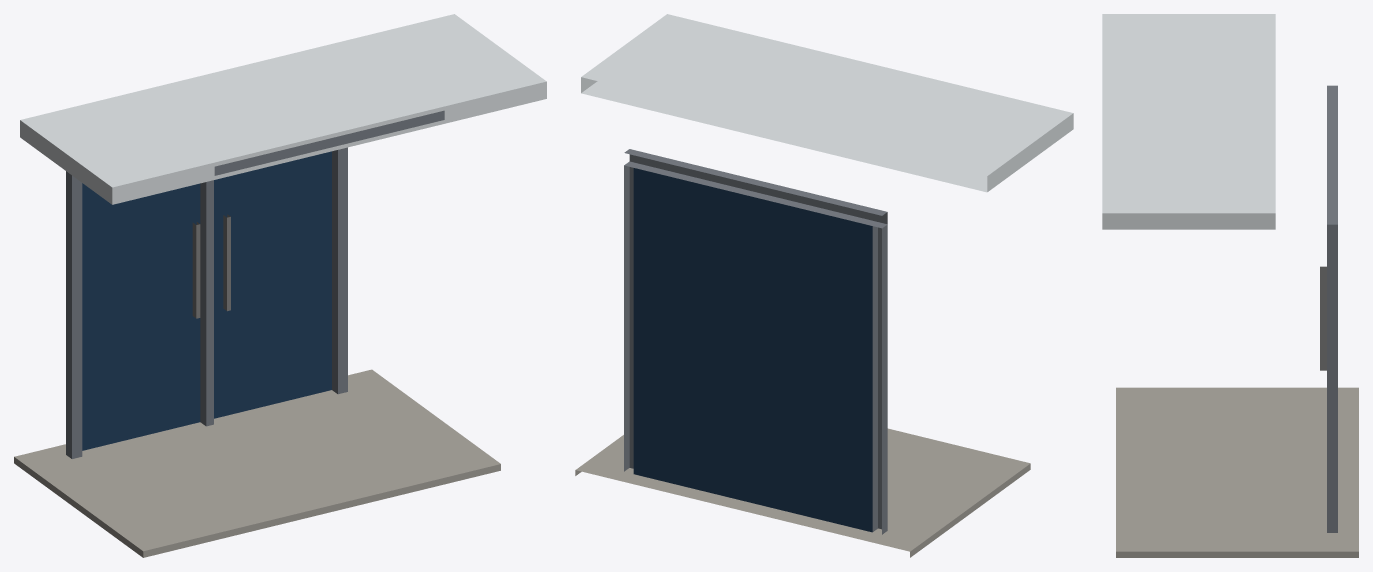
File: entrance_close.fbx
3 views of the same model, side by side, from view 1: azimuth 30°, elevation 25°; view 2: azimuth 150°, elevation 25°; view 3: azimuth 270°, elevation 25° (orthographic). The views are drawn at different scales.
Parts seen in each view (by area): view 1: a2002/200/entrance_close; view 2: a2002/200/entrance_close; view 3: a2002/200/entrance_close.
Boxes of the visible parts, bbox=[...] form: a2002/200/entrance_close: bbox=[14, 14, 546, 557]; a2002/200/entrance_close: bbox=[575, 14, 1073, 557]; a2002/200/entrance_close: bbox=[1102, 14, 1358, 557].
Size of the model in its own units: 3.4 by 2.88 by 1.85.
